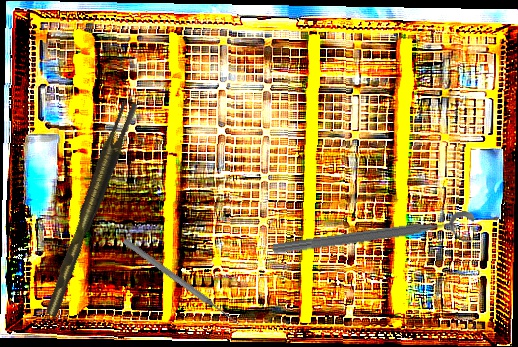Fixation Ring: (271, 210, 478, 271)
Pusher: (121, 236, 242, 329)
Tissue Forceps: (34, 98, 145, 318)
